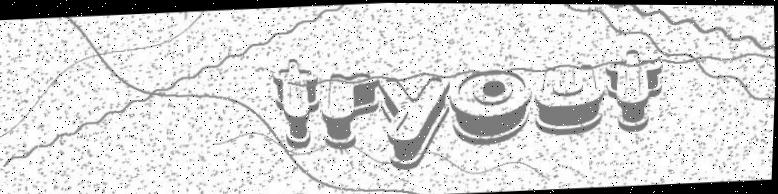o: (447, 67, 537, 148)
r: (318, 70, 383, 149)
t: (604, 47, 666, 130), (270, 58, 324, 148)
u: (533, 63, 608, 135)
y: (376, 75, 454, 170)
